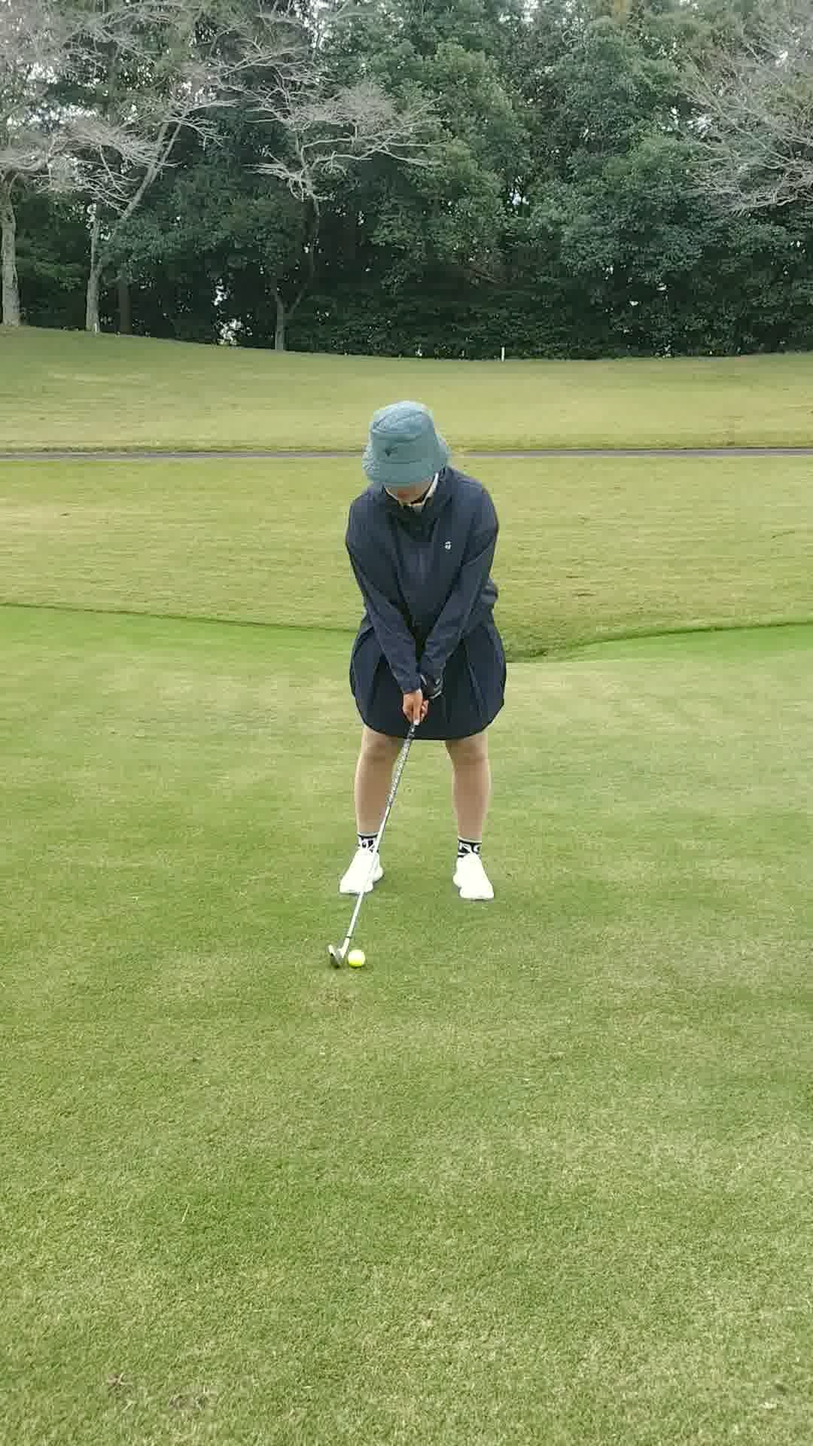clubhead: (213, 901, 436, 1016)
